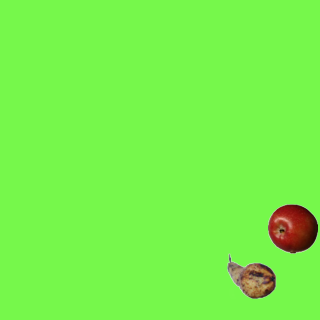Apple Braeburn: (267, 203, 317, 253)
Pear Abate: (226, 251, 276, 301)
